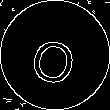O_N: (28, 25, 82, 85)
